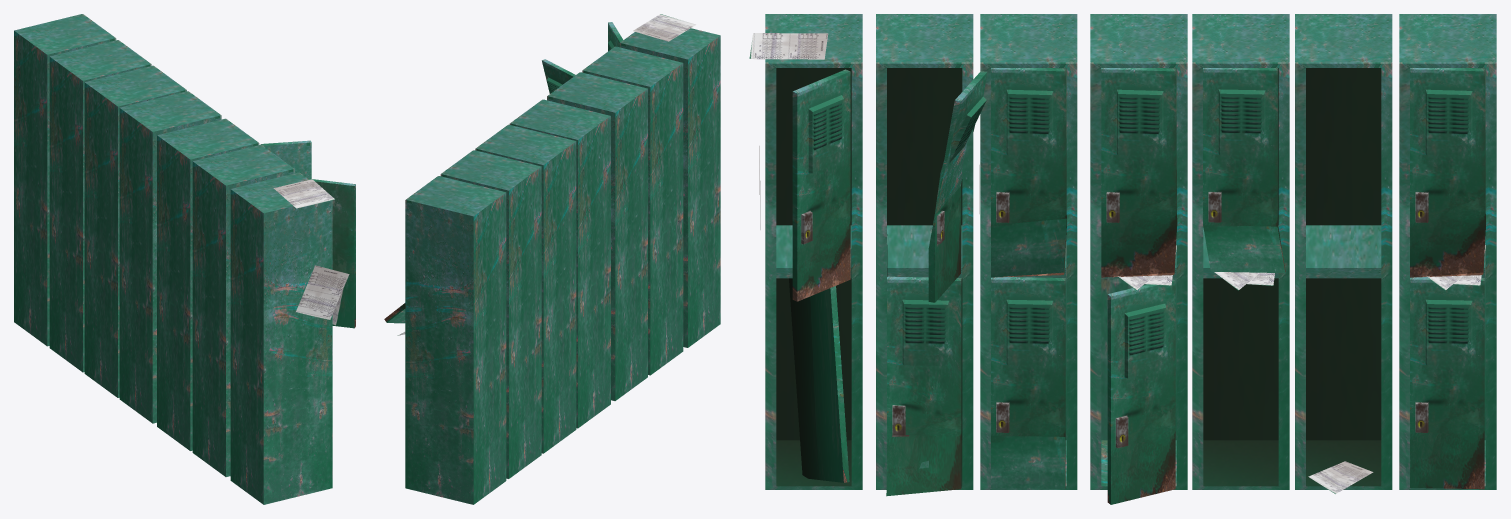
The model's file is Lockers02.fbx.
The picture shows the model from 3 angles, left to right: view 1: azimuth 30°, elevation 25°; view 2: azimuth 150°, elevation 25°; view 3: azimuth 270°, elevation 25°; orthographic projection. The views are drawn at different scales.
Visible parts, largest first — view 1: Empty_Mesh; view 2: Empty_Mesh; view 3: Empty_Mesh.
Part boxes in pixels (x1=…): Empty_Mesh: x1=14, y1=14, x2=355, y2=504; Empty_Mesh: x1=384, y1=14, x2=720, y2=504; Empty_Mesh: x1=749, y1=14, x2=1496, y2=504.
Size of the model in its own units: 79.26 by 195 by 307.
